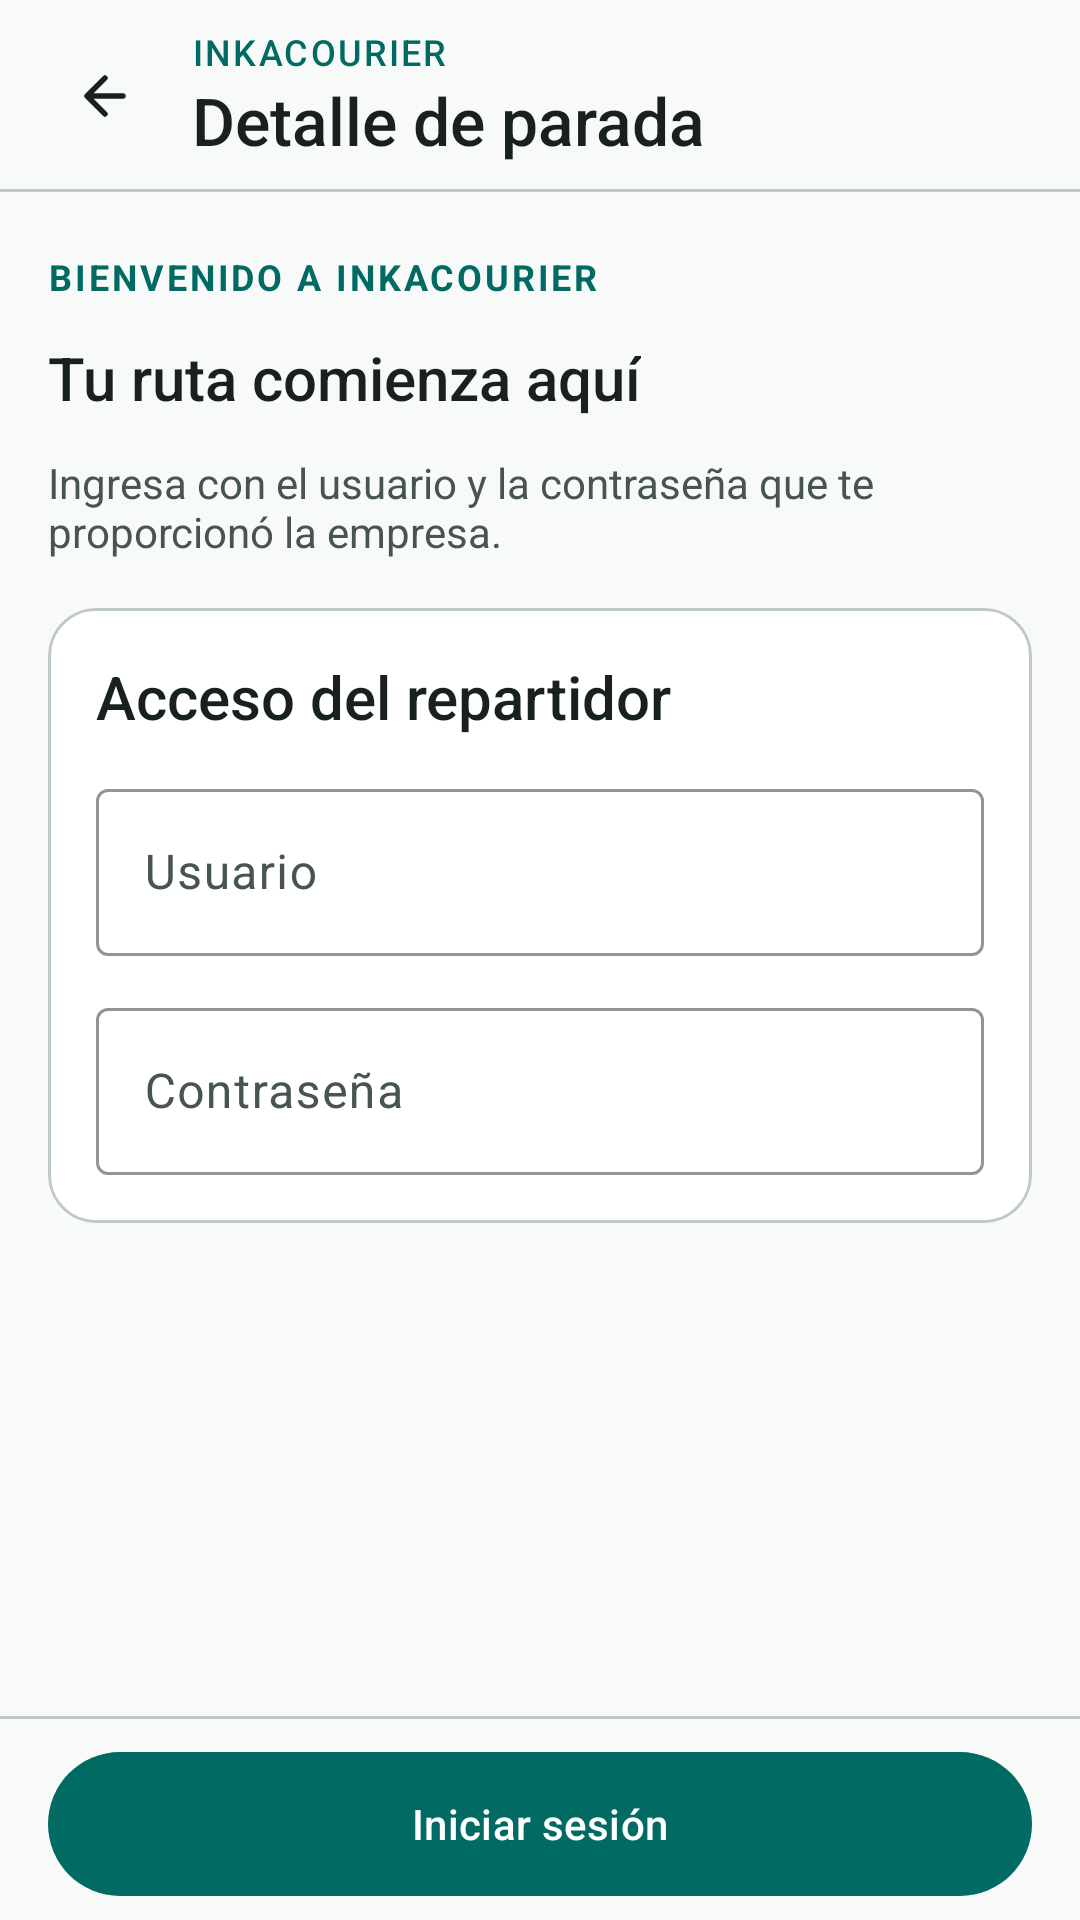

Locate icon controls on the screen. Image size 1080 × 1920, boxes as (x1, y1, x2, y2).
Volver: (84, 75, 126, 117)
